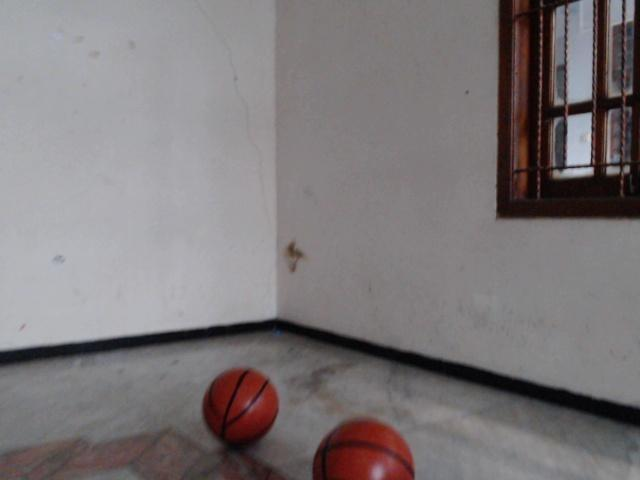Sports-Ball: (311, 420, 420, 480), (203, 366, 278, 445)
